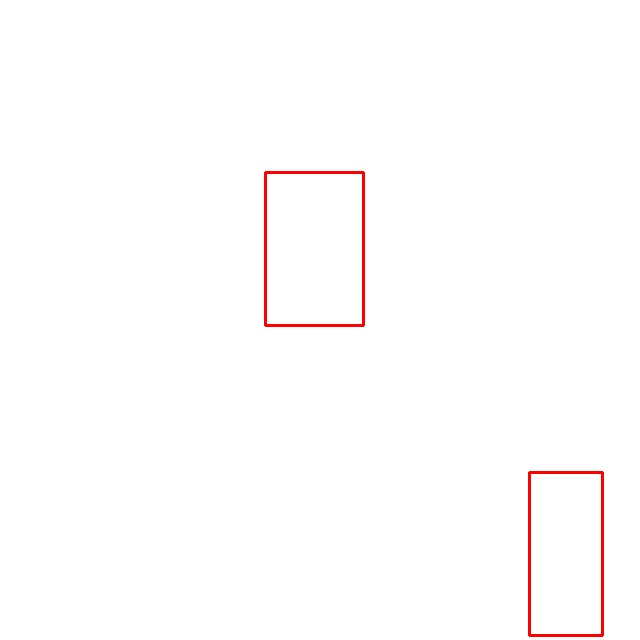weapon: (265, 173, 363, 326), (530, 472, 603, 635)
